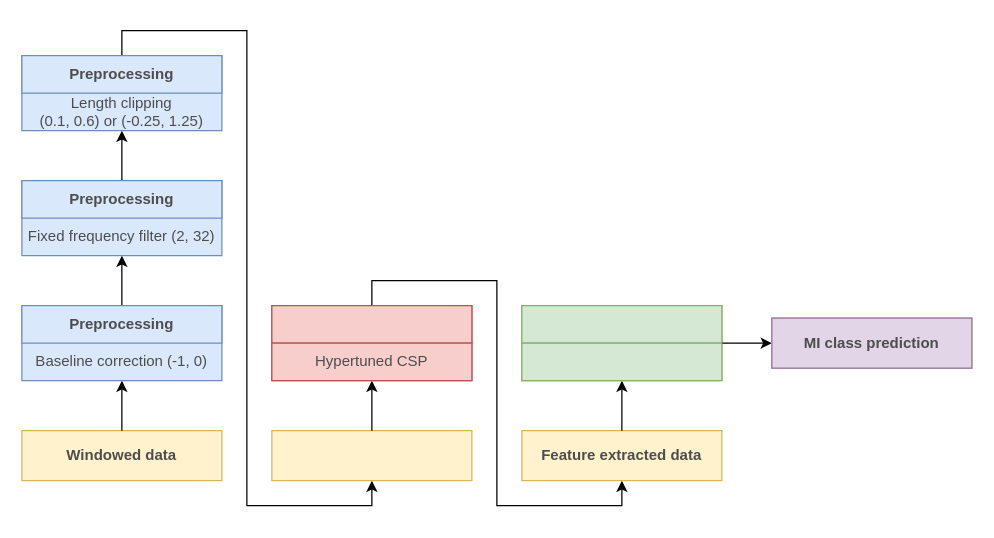
This 994x538 diagram has some shape labels left out. Each missing label, with the centre of its shape:
"Classification" belongs at point 621,323.
"Feature engineering" belongs at point 371,323.
"Hypertuned LDA, SVM or RF" belongs at point 621,361.
"Preprocessed data" belongs at point 371,455.
